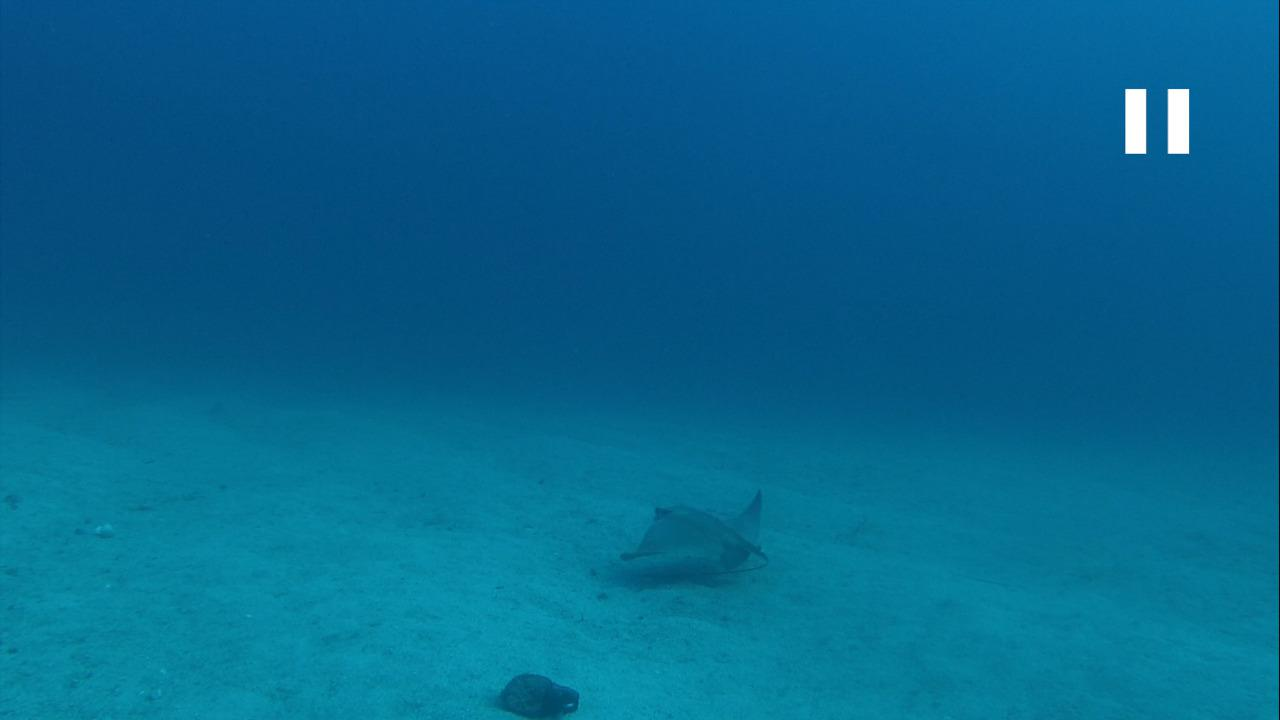myliobatis: (586, 487, 779, 597)
